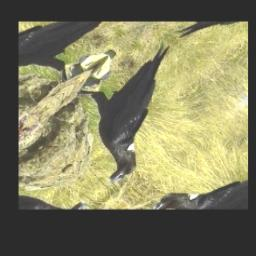Crow: (36, 29, 229, 188)
